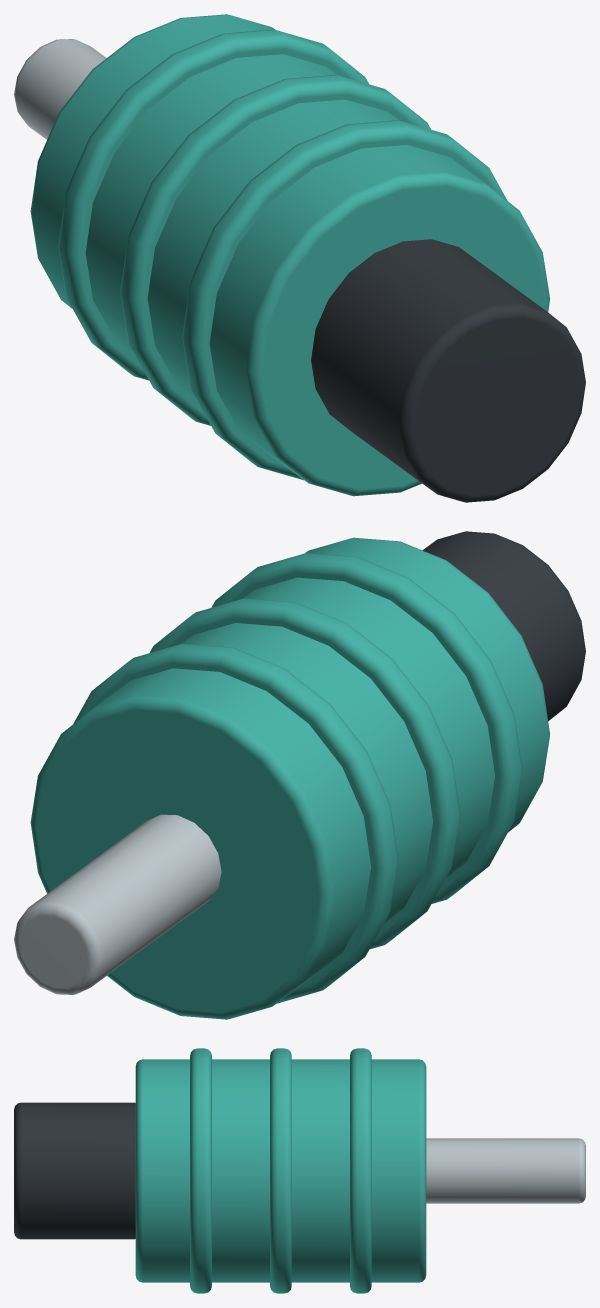
Rendered from ENG_WireConnector.fbx.
The picture shows the model from 3 angles, top to bottom: view 1: azimuth 30°, elevation 25°; view 2: azimuth 150°, elevation 25°; view 3: azimuth 270°, elevation 25°; orthographic projection. The views are drawn at different scales.
Visible parts, largest first — view 1: InsulatedGrip, StrainRelief, GripRing.002, GripRing, GripRing.001, ContactPin; view 2: InsulatedGrip, ContactPin, GripRing, GripRing.001, GripRing.002, StrainRelief; view 3: InsulatedGrip, StrainRelief, ContactPin, GripRing.001, GripRing.002, GripRing.
Boxes of the visible parts, x1=… form: InsulatedGrip: x1=30, y1=14, x2=549, y2=496; StrainRelief: x1=311, y1=239, x2=585, y2=502; GripRing.002: x1=182, y1=120, x2=507, y2=480; GripRing: x1=58, y1=29, x2=368, y2=380; GripRing.001: x1=120, y1=75, x2=430, y2=425; ContactPin: x1=14, y1=39, x2=106, y2=139; InsulatedGrip: x1=30, y1=537, x2=549, y2=1019; ContactPin: x1=14, y1=814, x2=221, y2=994; GripRing: x1=73, y1=643, x2=398, y2=1003; GripRing.001: x1=149, y1=598, x2=460, y2=949; GripRing.002: x1=211, y1=553, x2=522, y2=903; StrainRelief: x1=422, y1=531, x2=585, y2=720; InsulatedGrip: x1=135, y1=1059, x2=426, y2=1282; StrainRelief: x1=14, y1=1102, x2=135, y2=1239; ContactPin: x1=426, y1=1138, x2=585, y2=1203; GripRing.001: x1=270, y1=1048, x2=291, y2=1293; GripRing.002: x1=190, y1=1048, x2=211, y2=1293; GripRing: x1=350, y1=1048, x2=371, y2=1293.
Bounding box in the file's own units: 6.8 × 6.8 × 15.75.
